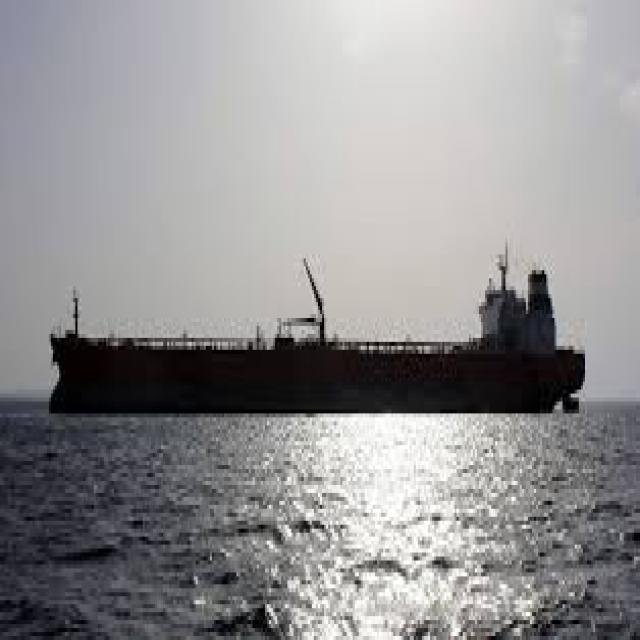cargoship: (39, 230, 587, 417)
